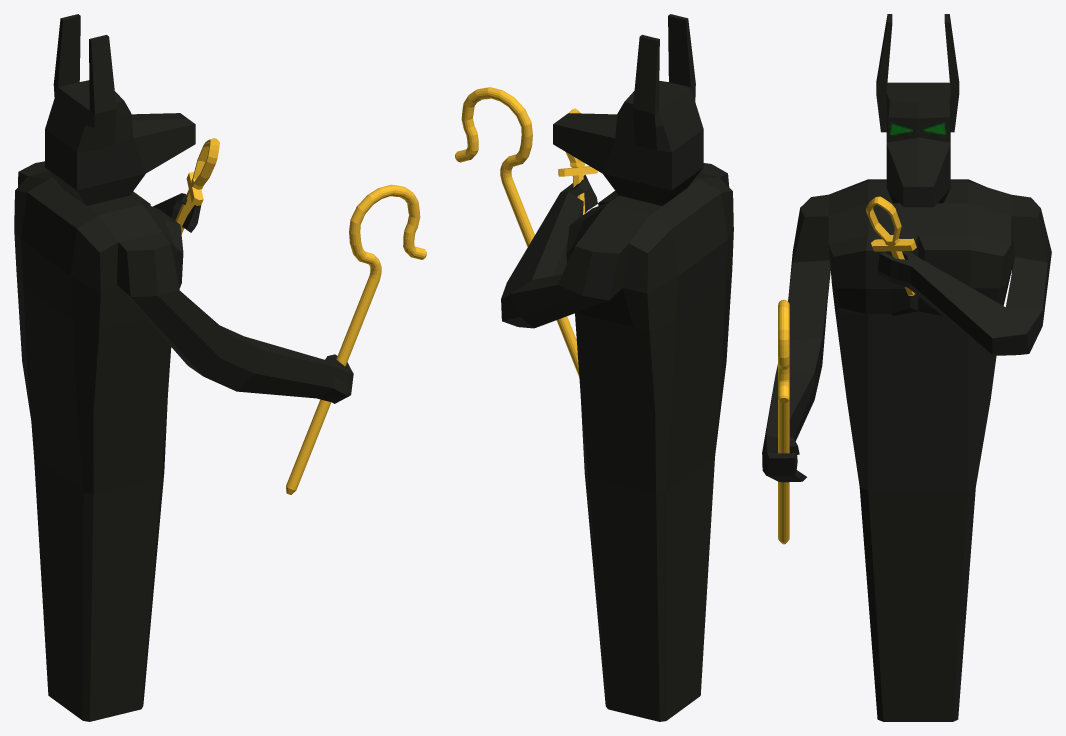
The model's file is anubis_statue.glb.
3 views of the same model, side by side, from view 1: azimuth 30°, elevation 25°; view 2: azimuth 150°, elevation 25°; view 3: azimuth 270°, elevation 25° (orthographic).
Visible parts, largest first — view 1: Anubis_Cube, Anhk_Cylinder.003; view 2: Anubis_Cube, Anhk_Cylinder.003; view 3: Anubis_Cube, Anhk_Cylinder.003.
Part boxes in pixels (box(x1,y1,x2,y2)): Anubis_Cube: box(14, 14, 353, 721); Anhk_Cylinder.003: box(175, 138, 426, 494); Anubis_Cube: box(501, 14, 733, 721); Anhk_Cylinder.003: box(455, 87, 597, 376); Anubis_Cube: box(762, 14, 1051, 721); Anhk_Cylinder.003: box(778, 196, 916, 544).
Bounding box in the file's own units: 6.28 × 12.94 × 4.97.
Materials: 2 (1 with a texture image).
